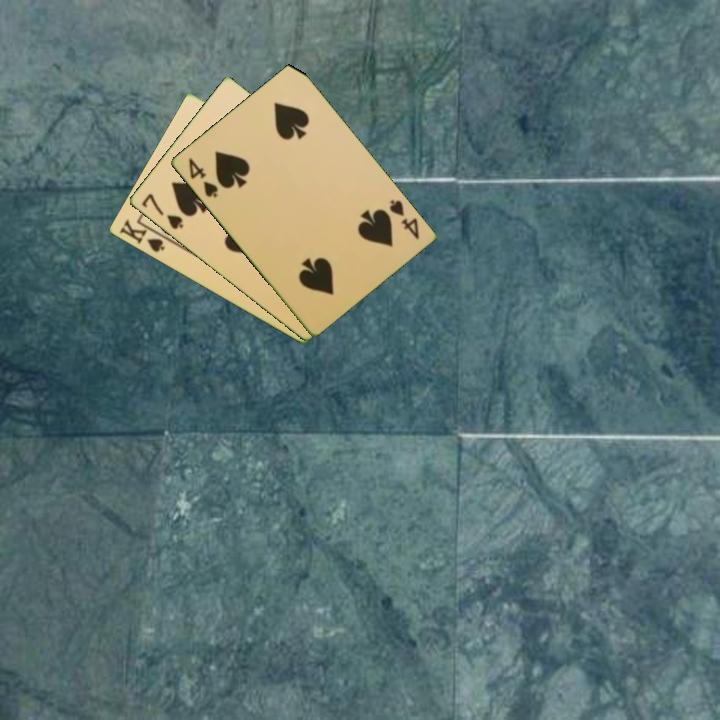4s: (184, 154, 221, 201), (385, 196, 422, 242)
7s: (138, 190, 186, 233)
Ks: (116, 216, 173, 255)
